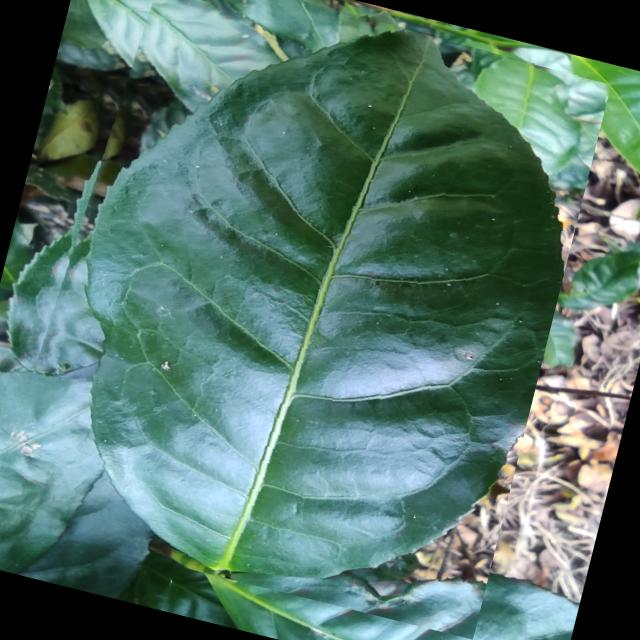Category D(7+ days, Not for Tea): (0, 0, 613, 638)
